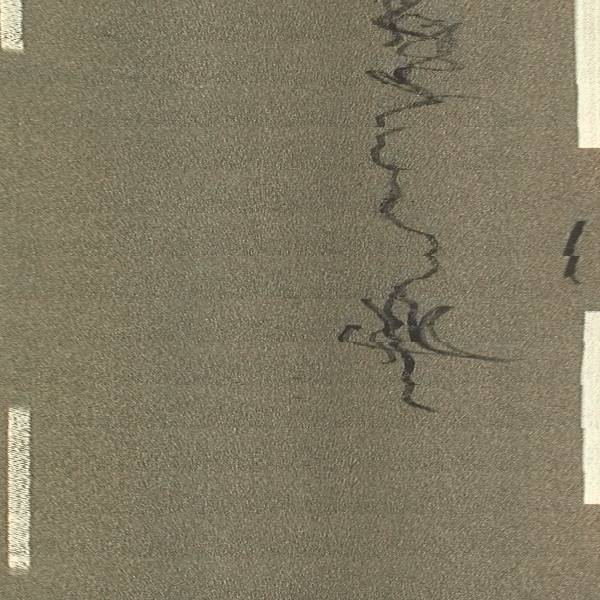road_damage: (333, 1, 493, 417), (560, 216, 589, 286)
